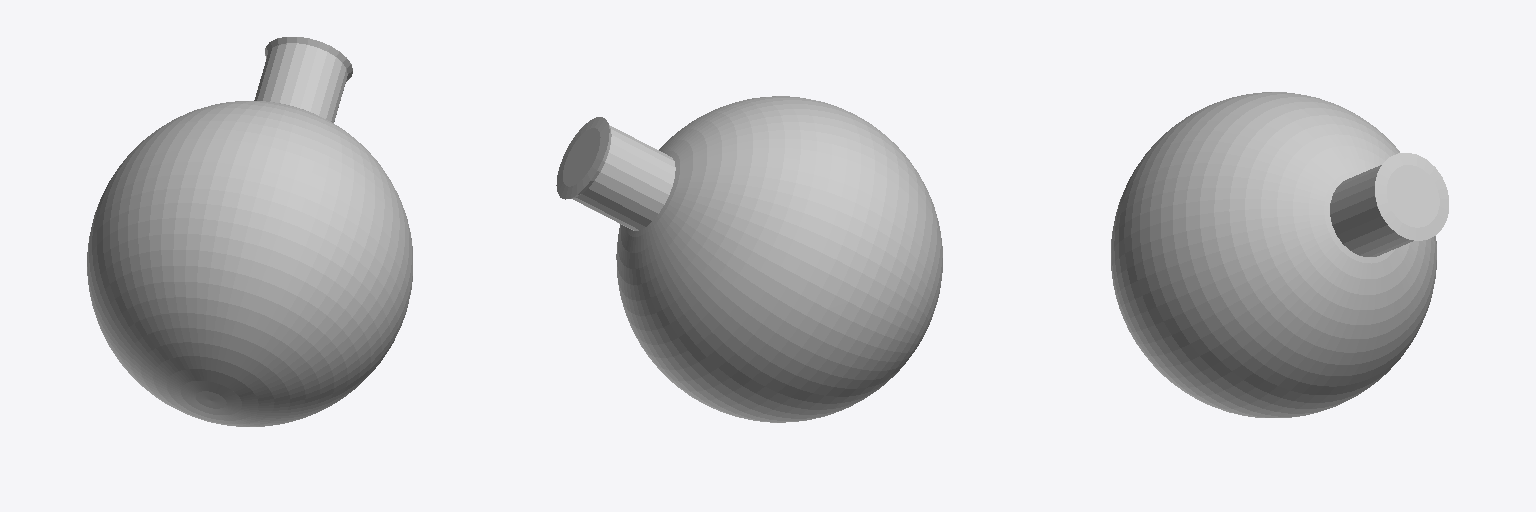
Rendered from potion.obj.
3 views of the same model, side by side, from view 1: azimuth 30°, elevation 25°; view 2: azimuth 150°, elevation 25°; view 3: azimuth 270°, elevation 25° (orthographic).
Visible parts, largest first — view 1: Sphere.002_Sphere.003, Cylinder_Cylinder.001; view 2: Sphere.002_Sphere.003, Cylinder_Cylinder.001; view 3: Sphere.002_Sphere.003, Cylinder_Cylinder.001.
Part boxes in pixels (bbox=[...]): Sphere.002_Sphere.003: bbox=[87, 101, 412, 426]; Cylinder_Cylinder.001: bbox=[254, 37, 352, 122]; Sphere.002_Sphere.003: bbox=[616, 96, 942, 422]; Cylinder_Cylinder.001: bbox=[556, 117, 675, 230]; Sphere.002_Sphere.003: bbox=[1111, 92, 1436, 417]; Cylinder_Cylinder.001: bbox=[1330, 153, 1448, 256].
Bounding box in the file's own units: 2.37 × 2.28 × 2.31.